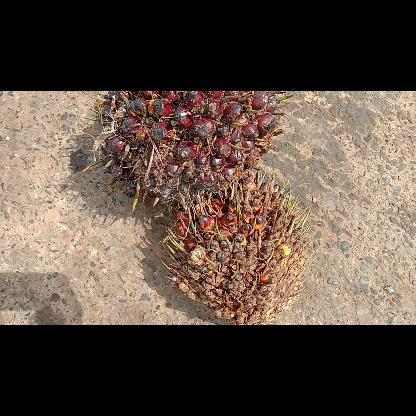Kurang masak: (84, 90, 292, 209)
TBS abnormal: (162, 170, 310, 324)
